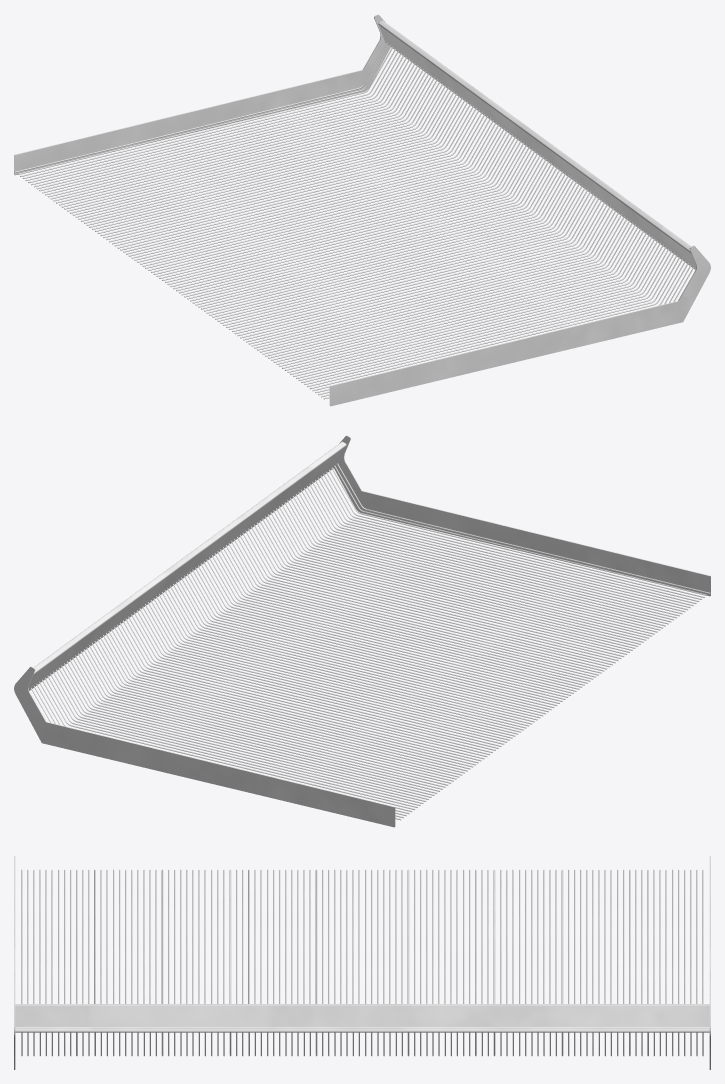
File: ShelfBasketBase02.fbx
3 renders of one model, top to bottom at view 1: azimuth 30°, elevation 25°; view 2: azimuth 150°, elevation 25°; view 3: azimuth 270°, elevation 25°, orthographic. The views are drawn at different scales.
Parts seen in each view (by area): view 1: ShelfBasketBase02; view 2: ShelfBasketBase02; view 3: ShelfBasketBase02.
Boxes of the visible parts, left/top/right/bottom form: ShelfBasketBase02: left=14, top=14, right=710, bottom=406; ShelfBasketBase02: left=14, top=435, right=710, bottom=827; ShelfBasketBase02: left=14, top=856, right=710, bottom=1069.
Size of what is drawn, in the model's own units: 69.9 by 99.86 by 12.81.
Materials: 1 (1 with a texture image).
